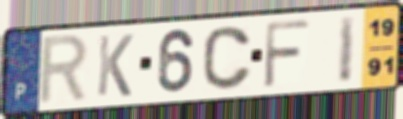6: (156, 28, 197, 96)
C: (200, 24, 254, 93)
F: (261, 18, 312, 90)
I: (336, 13, 358, 86)
K: (94, 33, 135, 99)
R: (35, 31, 92, 108)
